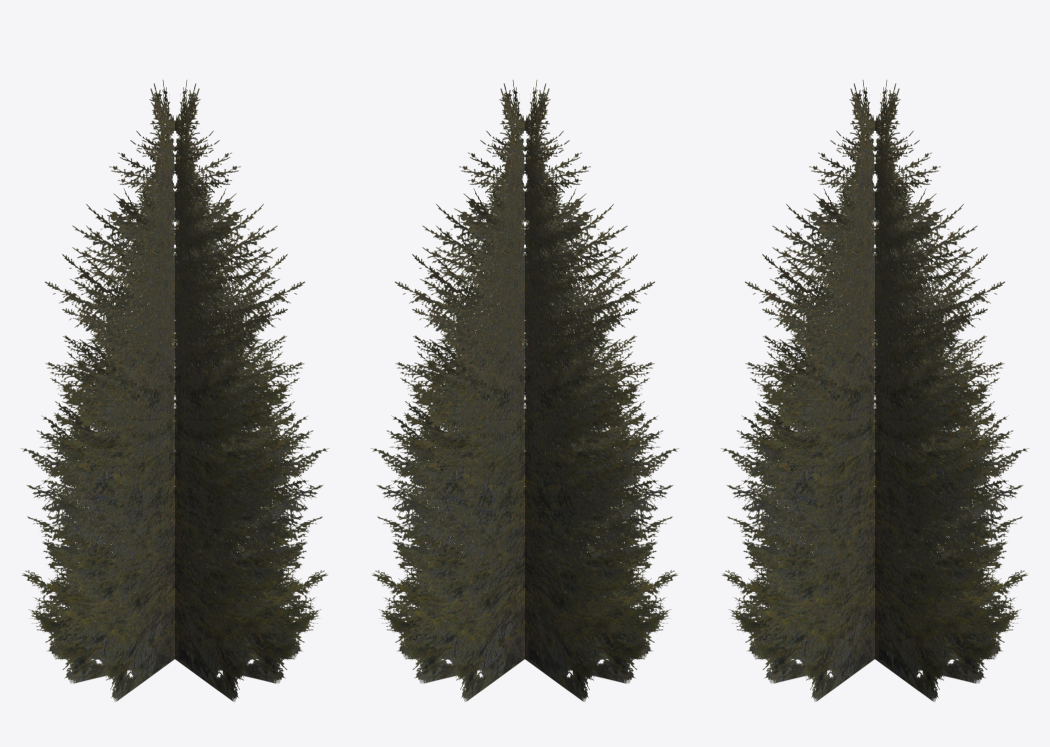
File: coniferous-tree-v-billboards.glb
3 views of the same model, side by side, from view 1: azimuth 30°, elevation 25°; view 2: azimuth 150°, elevation 25°; view 3: azimuth 270°, elevation 25° (orthographic).
Parts seen in each view (by area): view 1: v.007, v.010, v.006, v.011, v.008, v.012, v.009, v.005, v.001, v.004; view 2: v.003, v.007, v.002, v.006, v.004, v.005, v.008, v.001, v.009, v.012; view 3: v.002, v.011, v.010, v.012, v.003, v.004, v.001, v.009, v.005, v.008.
Boxes of the visible parts, x1,y1,x2,y2 form: v.007: [42, 93, 174, 692]; v.010: [175, 97, 308, 701]; v.006: [22, 88, 174, 677]; v.011: [175, 93, 328, 683]; v.008: [98, 97, 174, 701]; v.012: [175, 88, 327, 658]; v.009: [175, 118, 251, 689]; v.005: [21, 83, 173, 658]; v.001: [176, 83, 307, 607]; v.004: [41, 80, 174, 552]; v.003: [392, 93, 524, 692]; v.007: [525, 93, 678, 683]; v.002: [372, 88, 524, 677]; v.006: [525, 97, 658, 701]; v.004: [448, 97, 524, 701]; v.005: [525, 118, 601, 692]; v.008: [525, 88, 677, 658]; v.001: [371, 83, 523, 658]; v.009: [526, 83, 657, 607]; v.012: [391, 80, 524, 552]; v.002: [875, 97, 1008, 701]; v.011: [742, 93, 874, 691]; v.010: [722, 88, 874, 677]; v.012: [798, 97, 874, 701]; v.003: [875, 93, 1028, 683]; v.004: [875, 88, 1027, 658]; v.001: [875, 118, 951, 689]; v.009: [721, 83, 873, 658]; v.005: [876, 83, 1007, 607]; v.008: [741, 80, 874, 552].
Size of the model in its own units: 1 by 2 by 1.
Materials: 1 (1 with a texture image).
